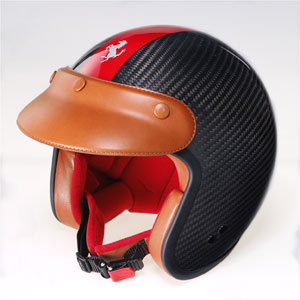helmet: (31, 27, 275, 275)
